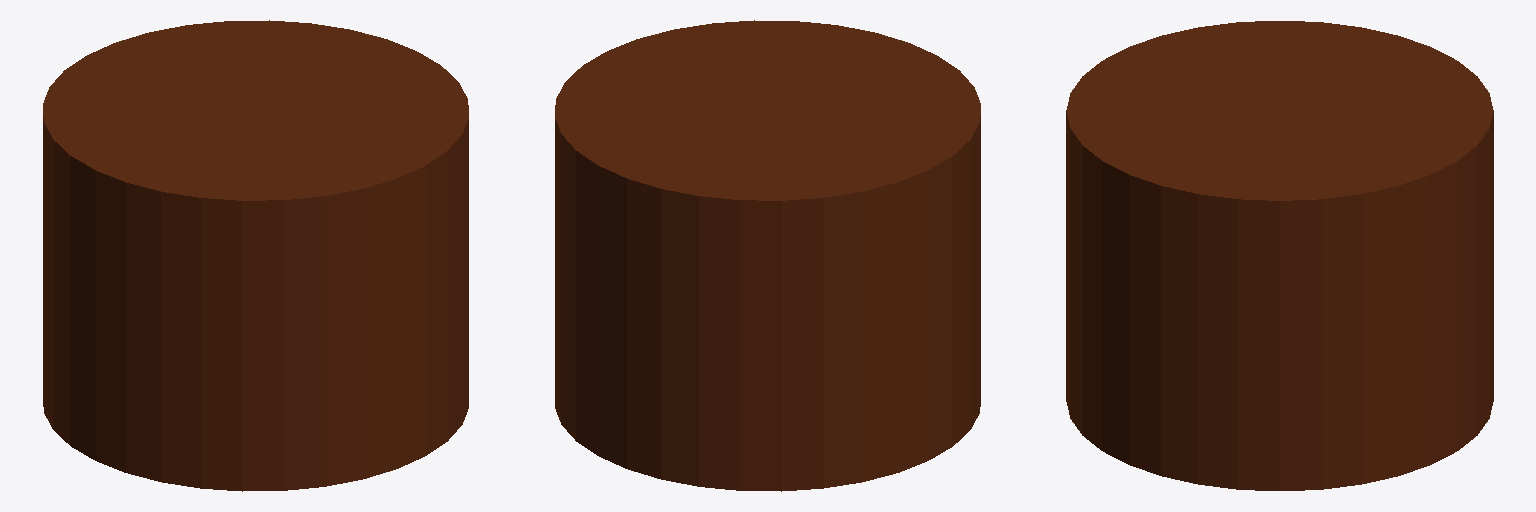
URDF robot description (puck):
<robot name="puck">
  <material name="puck_mat">
    <color rgba="0.4 0.2 0.1 1.0"/>
  </material>

  <link name="puck_link">
    <contact>
      <lateral_friction value="0.8"/>
      <rolling_friction value="0.001"/>
      <contact_cfm value="0.0"/>
      <contact_erp value="1.0"/>
      <restitution value="0"/>
    </contact>
    <inertial>
      <origin rpy="0 0 0" xyz="0 0 0"/>
       <mass value="0.1"/>
       <inertia ixx="1" ixy="0" ixz="0" iyy="1" iyz="0" izz="1"/>
    </inertial>
    <visual>
      <origin rpy="0 0 0" xyz="0 0 0"/>
      <geometry>
        <cylinder length="0.06" radius="0.04"/>
      </geometry>
      <material name="puck_mat"/>
    </visual>
    <collision>
      <origin rpy="0 0 0" xyz="0 0 0"/>
      <geometry>
        <cylinder length="0.06" radius="0.04"/>
      </geometry>
    </collision>
  </link>
</robot>

--- Render facts (derived) ---
3 views of the same robot in one strip: view 1: azimuth 30°, elevation 25°; view 2: azimuth 150°, elevation 25°; view 3: azimuth 270°, elevation 25° (orthographic).
Model puck with 1 links and 0 joints (none), rooted at puck_link, posed every joint at zero.
Links seen in each view (by area): view 1: puck_link; view 2: puck_link; view 3: puck_link.
Link boxes in pixels (x1,y1,x2,y2): puck_link: [43, 20, 468, 491]; puck_link: [555, 20, 980, 491]; puck_link: [1066, 21, 1493, 490].
Bounding box of the posed robot: 0.08 × 0.08 × 0.06 m (x, y, z).
Geometry: primitives only (box / cylinder / sphere), no mesh files.